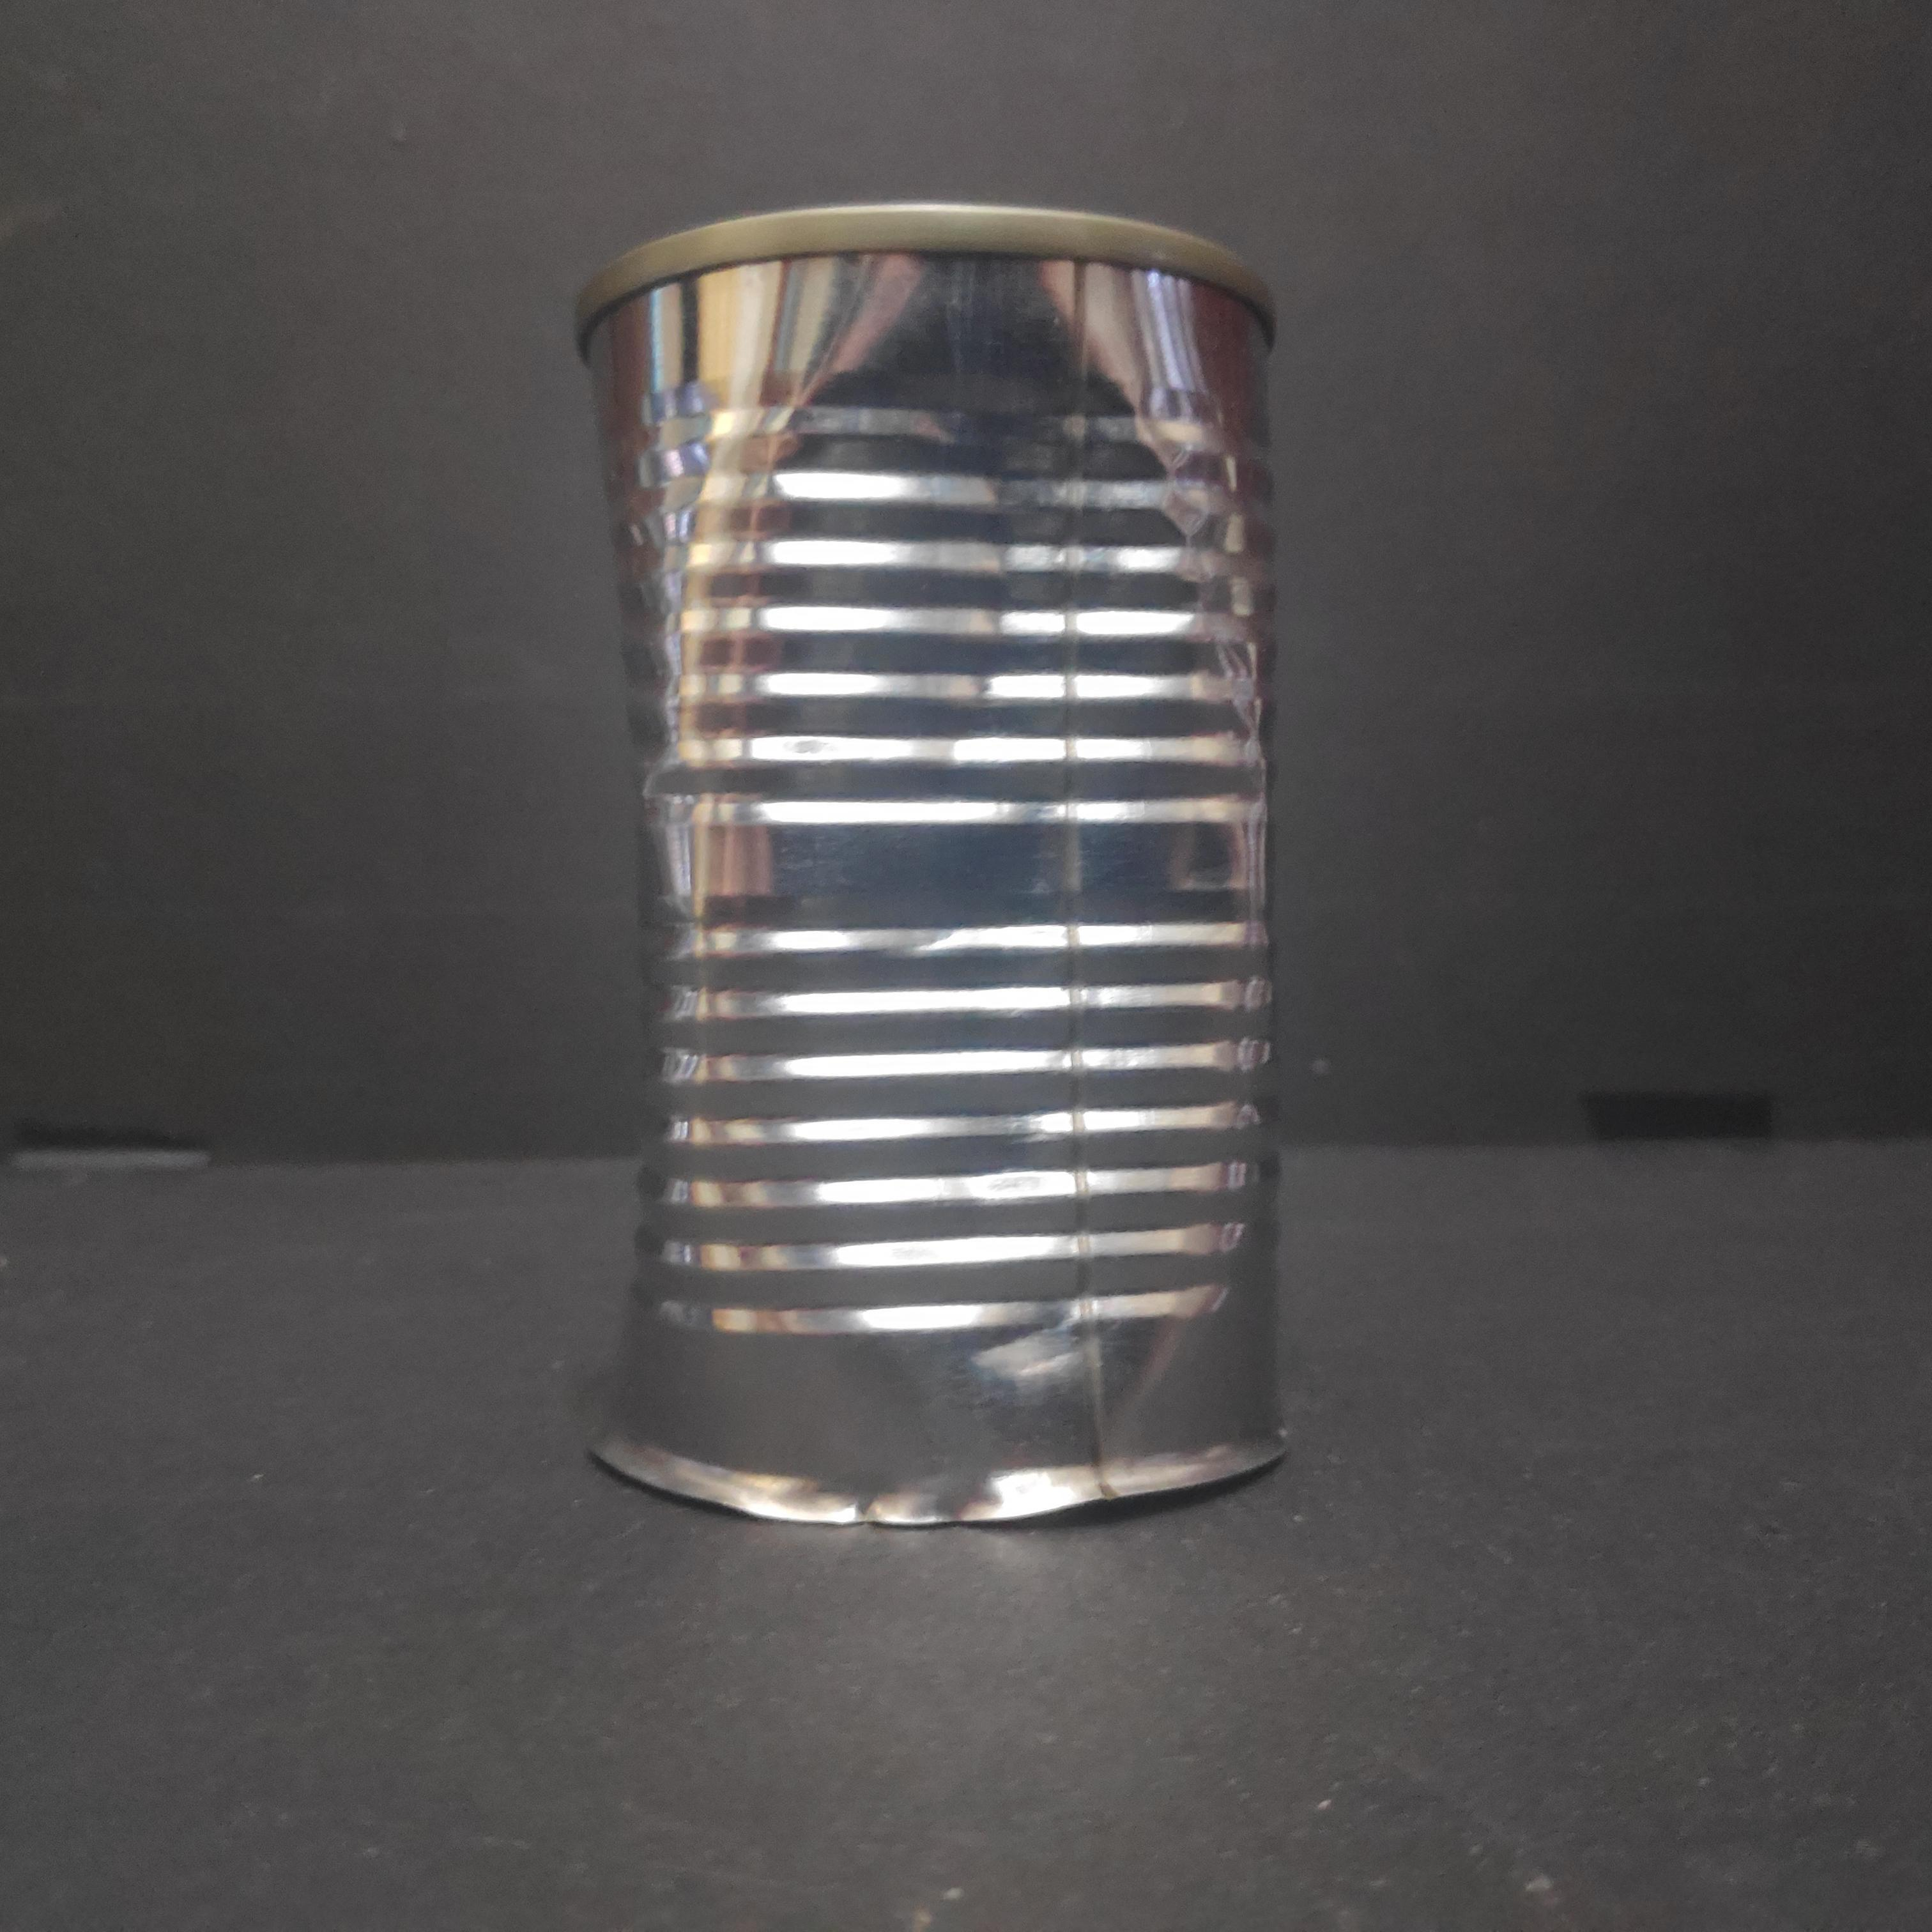Dented: (553, 169, 1281, 1546)
